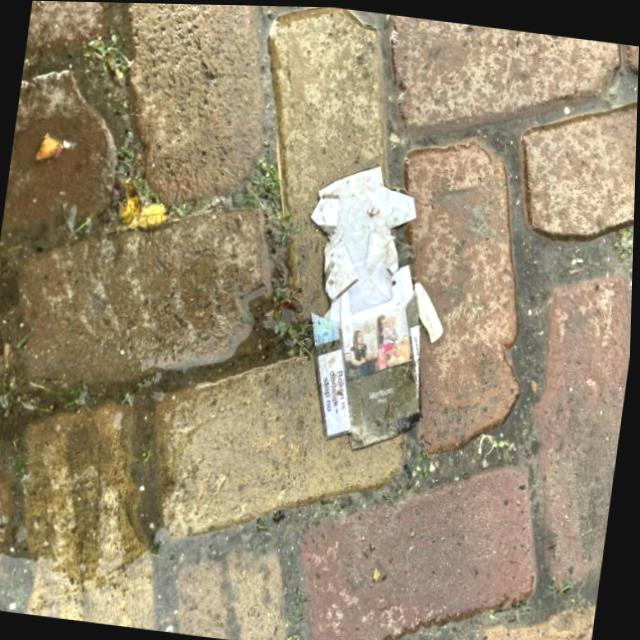Paper: (280, 154, 467, 459)
